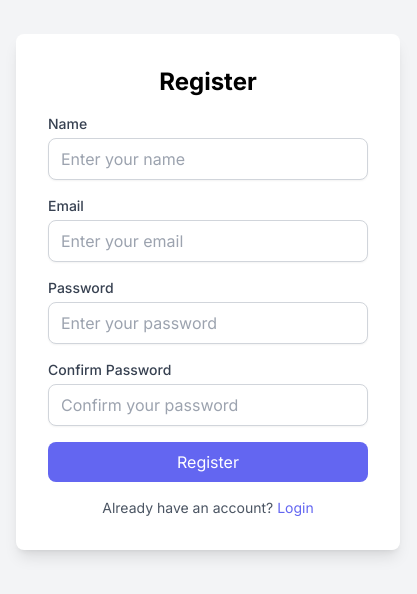
Test: RegisterPage Component › shows an error if passwords do not match
Type "John Doe" into the field with placeholder "Enter your name" at (208, 159), box x1=48 y1=138 x2=368 y2=180
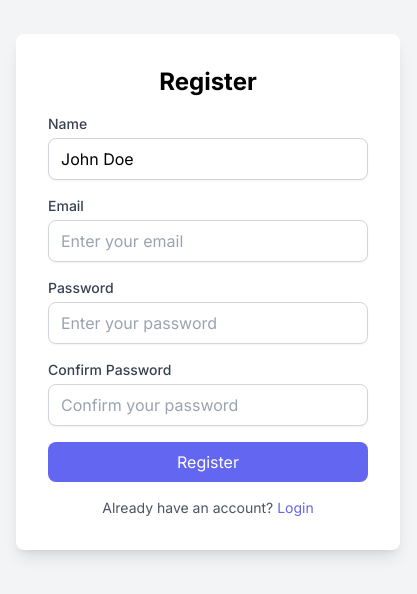
Type "john@example.com" into the field with placeholder "Enter your email" at (208, 241), box x1=48 y1=220 x2=368 y2=262
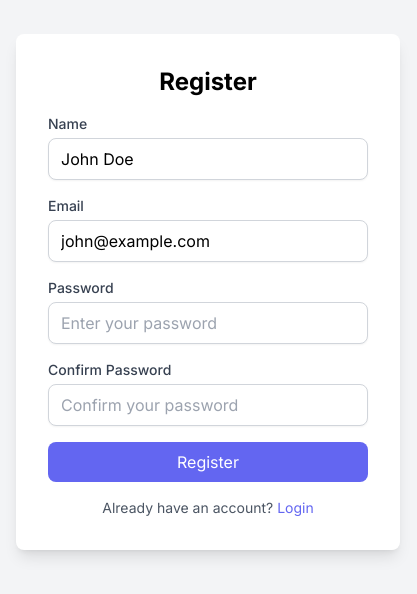
Type "password123" into the password field with placeholder "Enter your password" at (208, 323), box x1=48 y1=302 x2=368 y2=344
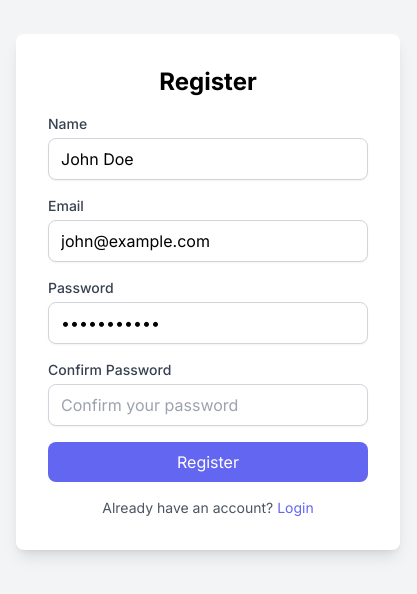
Type "password456" into the password field with placeholder "Confirm your password" at (208, 405), box x1=48 y1=384 x2=368 y2=426
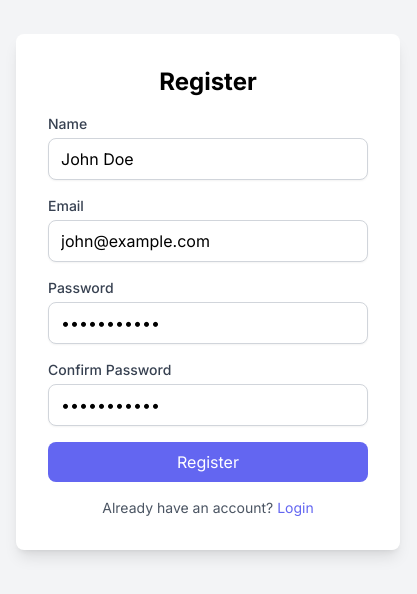
Click the button "Register" at (208, 462), box x1=48 y1=442 x2=368 y2=482
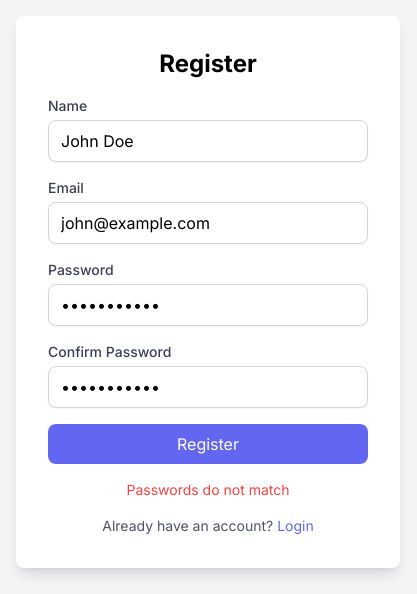
Expected: the text "Passwords do not match" is shown, x1=126 y1=481 x2=290 y2=498
